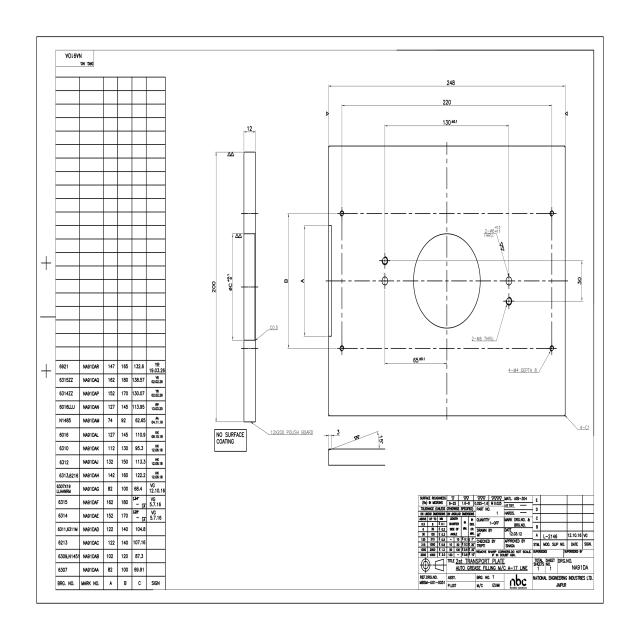dimension: (268, 427, 316, 436), (483, 223, 502, 240), (506, 366, 540, 374), (224, 272, 234, 294), (470, 334, 496, 342), (442, 117, 459, 127), (411, 355, 427, 365), (444, 77, 458, 87), (441, 96, 454, 106), (377, 433, 385, 448), (210, 278, 217, 295), (268, 323, 280, 332), (578, 423, 591, 431), (576, 274, 583, 287), (245, 123, 254, 132), (334, 427, 341, 437), (282, 277, 288, 286), (299, 277, 305, 286)
